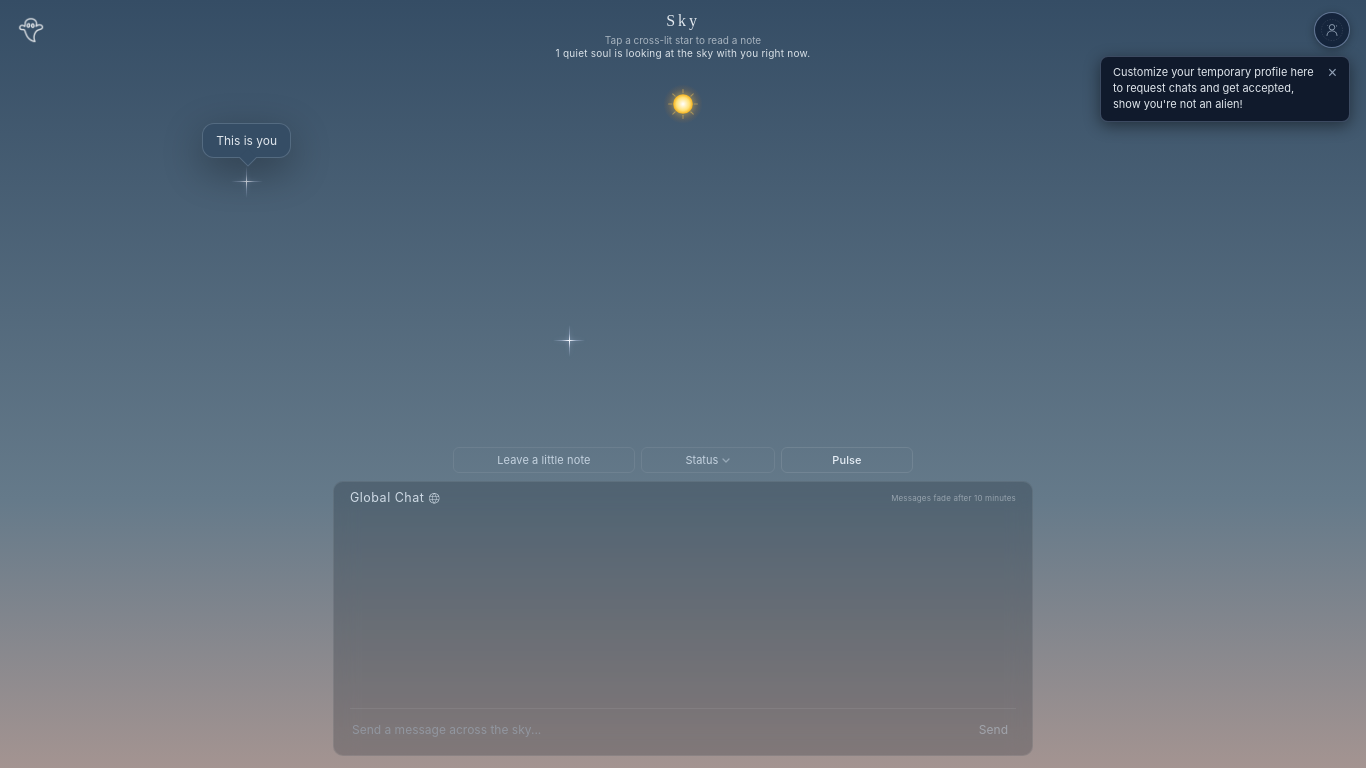
Test case: Sky Interactive Features Integration › escape key and backdrop click dismiss pulse confirmation dialog
Click the button "Pulse". click: (847, 460)
box: [781, 447, 913, 473]
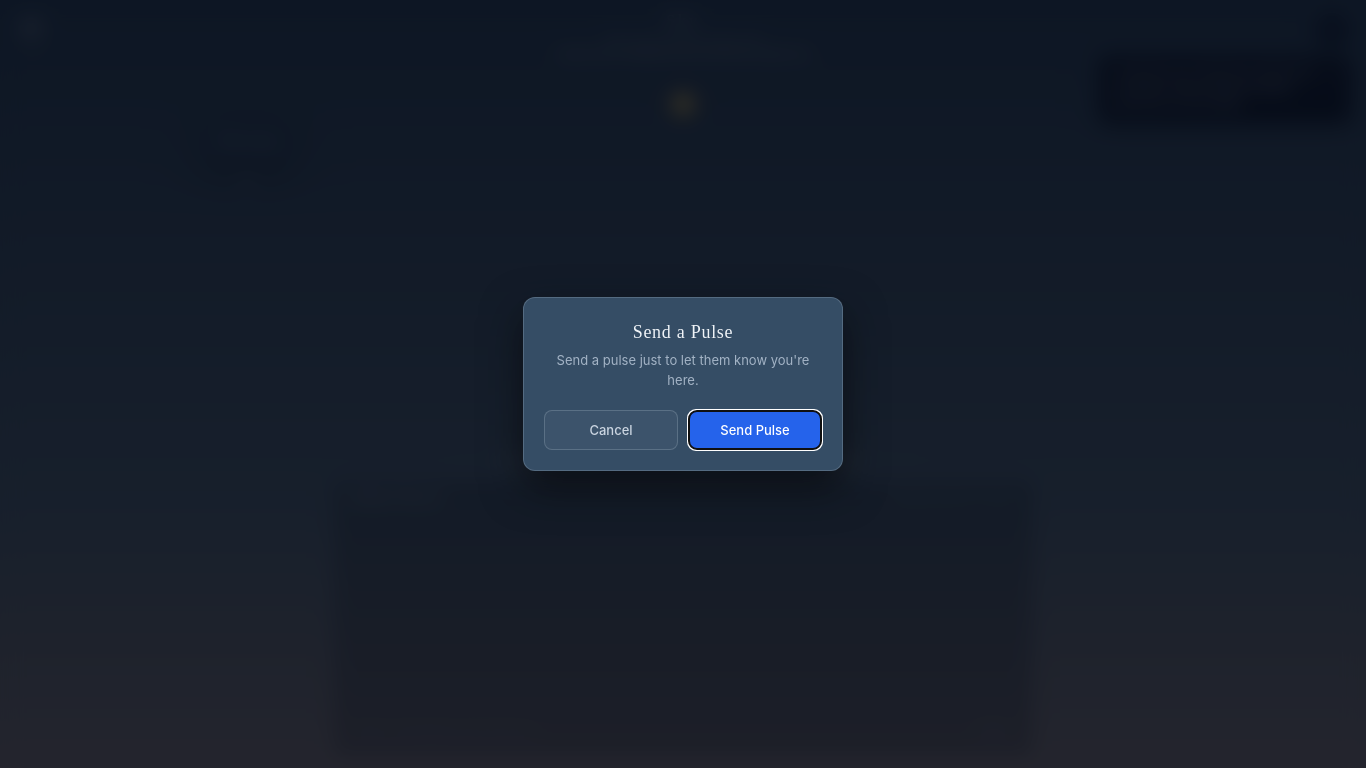
Expected: the dialog "Send a Pulse" is shown
Press Escape
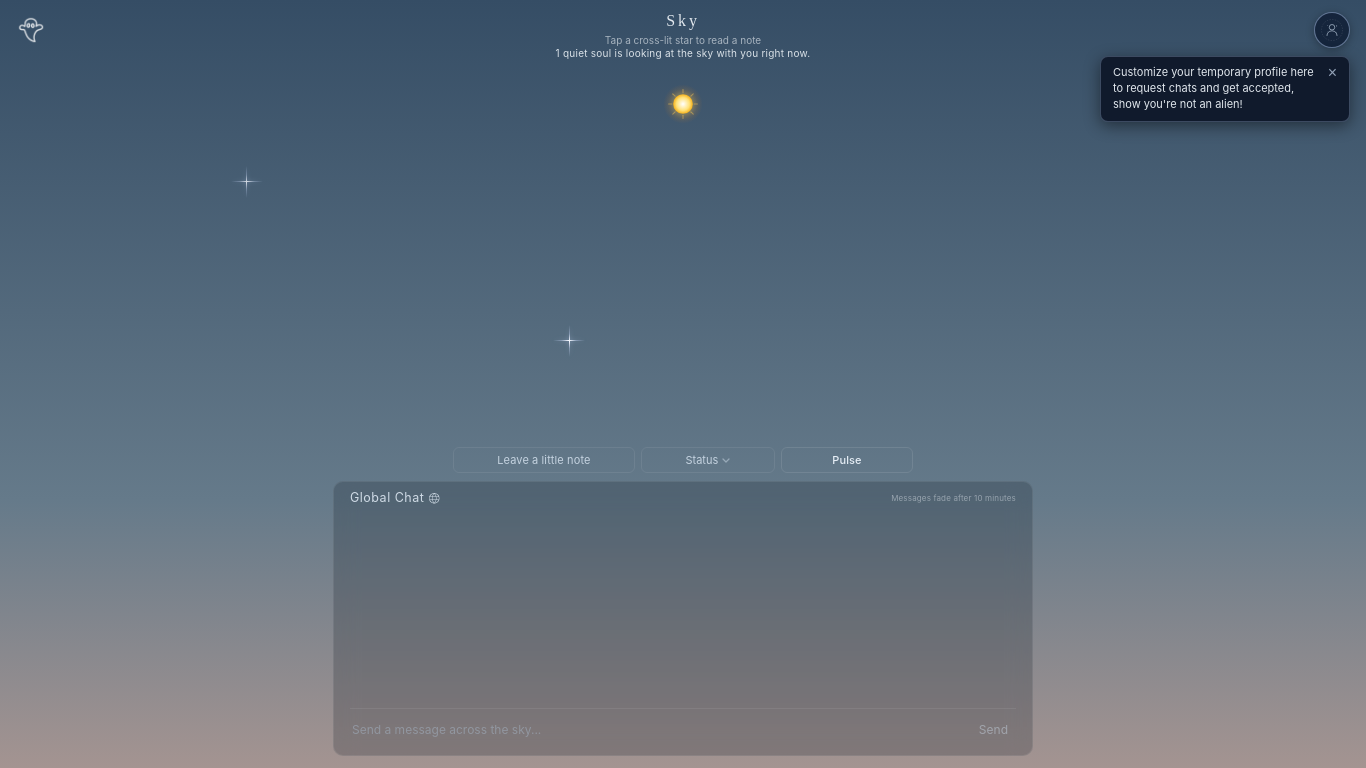
Expected: the heading "Send a Pulse" is gone
# Reopen and test backdrop click
Click the button "Pulse". click: (847, 460)
box: [781, 447, 913, 473]
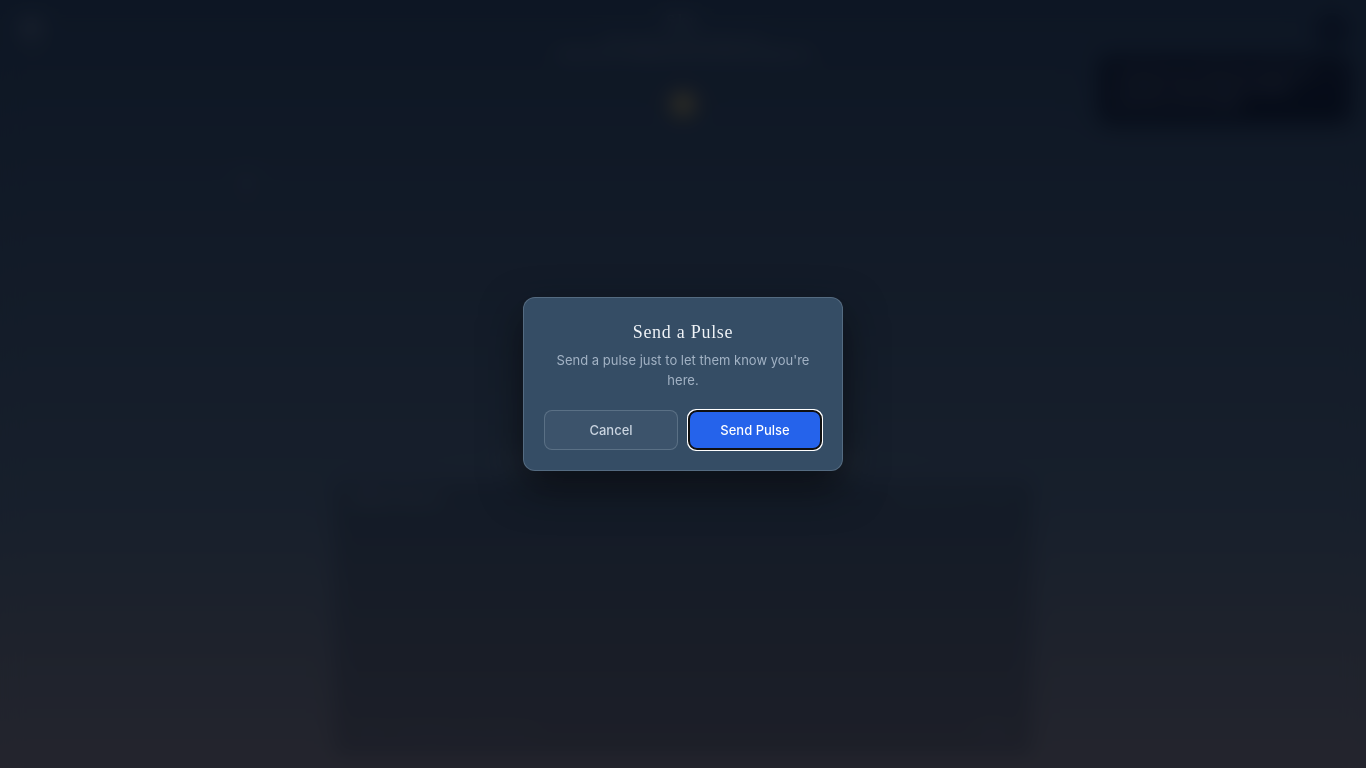
Expected: the dialog with class "sky-pulse-backdrop" is shown
Click the dialog with class "sky-pulse-backdrop". click: (82, 384)
box: [0, 0, 1365, 767]
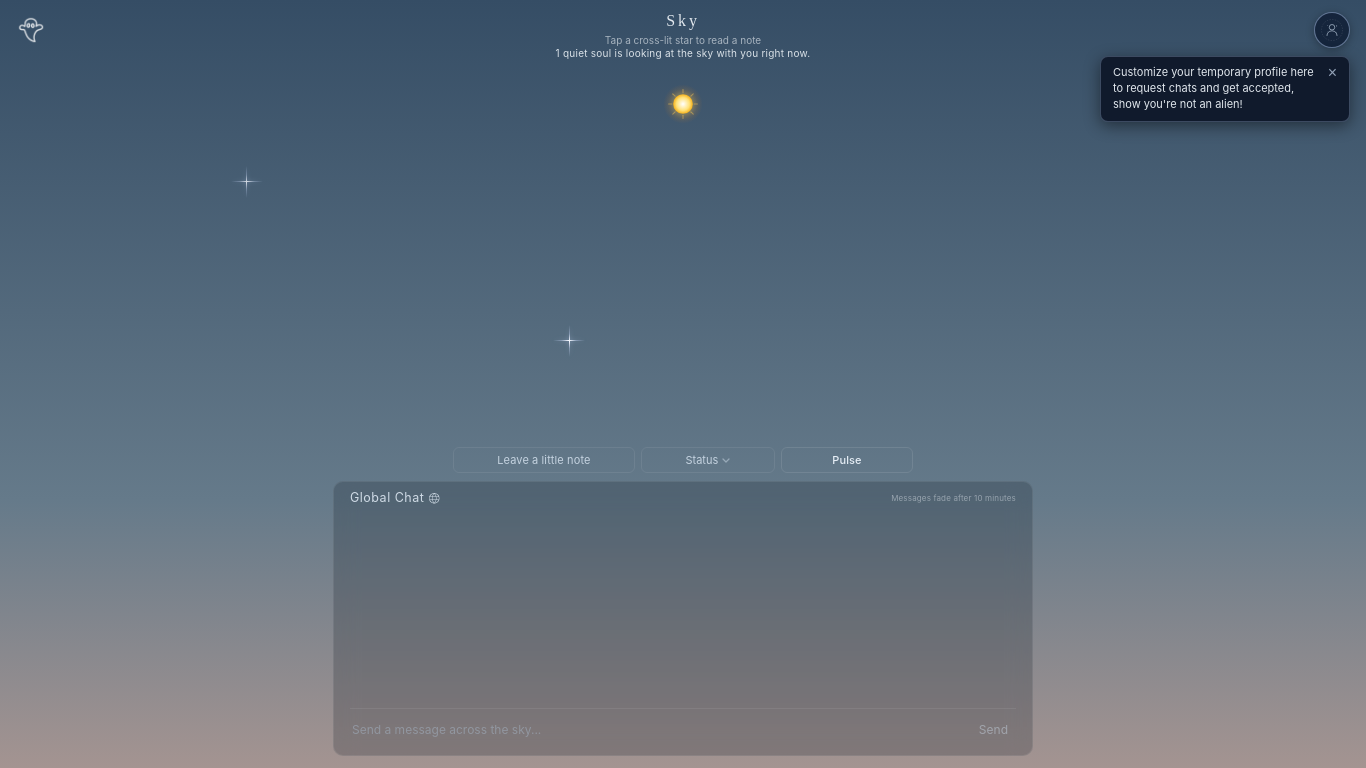
Expected: the heading "Send a Pulse" is gone
